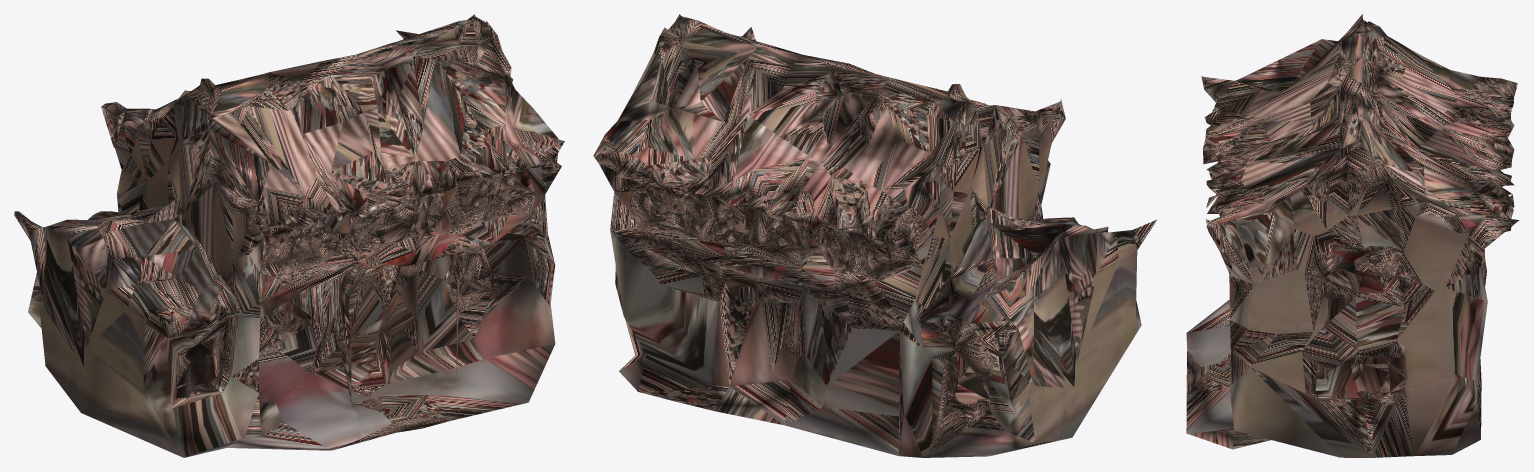
File: bq_inn.far.glb
The picture shows the model from 3 angles, left to right: view 1: azimuth 30°, elevation 25°; view 2: azimuth 150°, elevation 25°; view 3: azimuth 270°, elevation 25°; orthographic projection. The views are drawn at different scales.
Size of the model in its own units: 1.9 by 1.4 by 1.38.
Materials: 1 (1 with a texture image).
